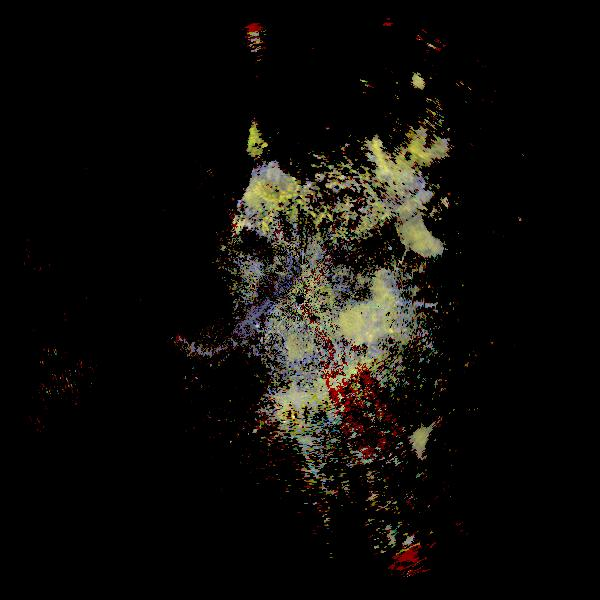roost: (390, 177, 477, 264), (405, 410, 486, 491)
